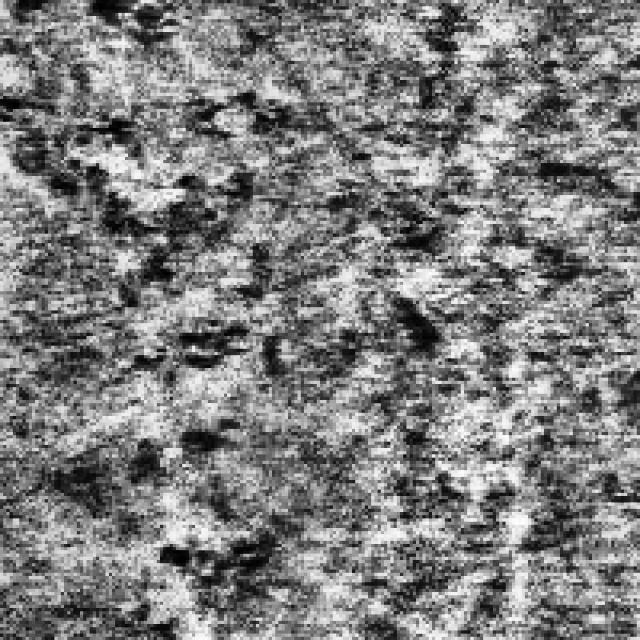Crazing: (28, 76, 250, 342), (131, 314, 282, 582), (76, 0, 182, 51)
